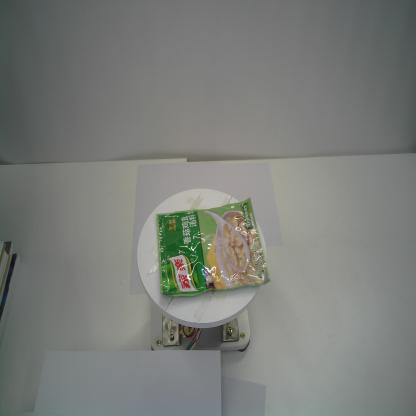Seasoner: (156, 197, 272, 297)
